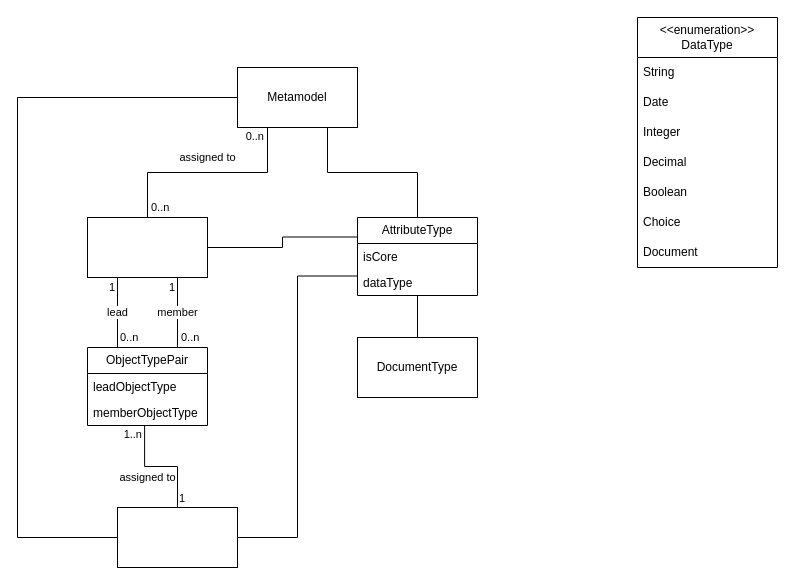
Some shapes in this 795 by 585 pixel diagram are drawn without their labels. The shapes that lost their labels are listed below. From the top down, each one's centre as x and y in pixels, then its label:
At point (147, 247): "ObjectType".
At point (177, 537): "RelationshipType".
